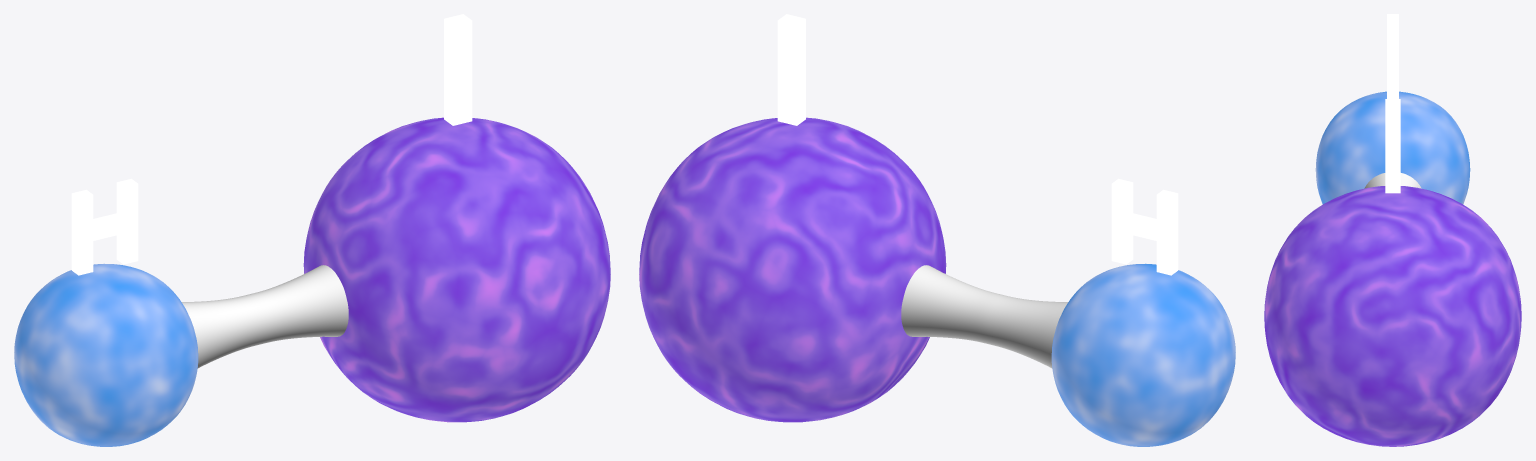
3 views of the same model, side by side, from view 1: azimuth 30°, elevation 25°; view 2: azimuth 150°, elevation 25°; view 3: azimuth 270°, elevation 25° (orthographic). The views are drawn at different scales.
Parts seen in each view (by area): view 1: Text.002, Text.004; view 2: Text.002, Text.004; view 3: Text.002, Text.004.
Part boxes in pixels (x1,y1,x2,y2): Text.002: (14, 117, 610, 446); Text.004: (444, 14, 472, 125); Text.002: (639, 117, 1235, 446); Text.004: (777, 14, 805, 125); Text.002: (1264, 14, 1521, 446); Text.004: (1385, 99, 1400, 193).
Bounding box in the file's own units: 5.2 × 3.43 × 2.42.
4 materials, 2 textured.
